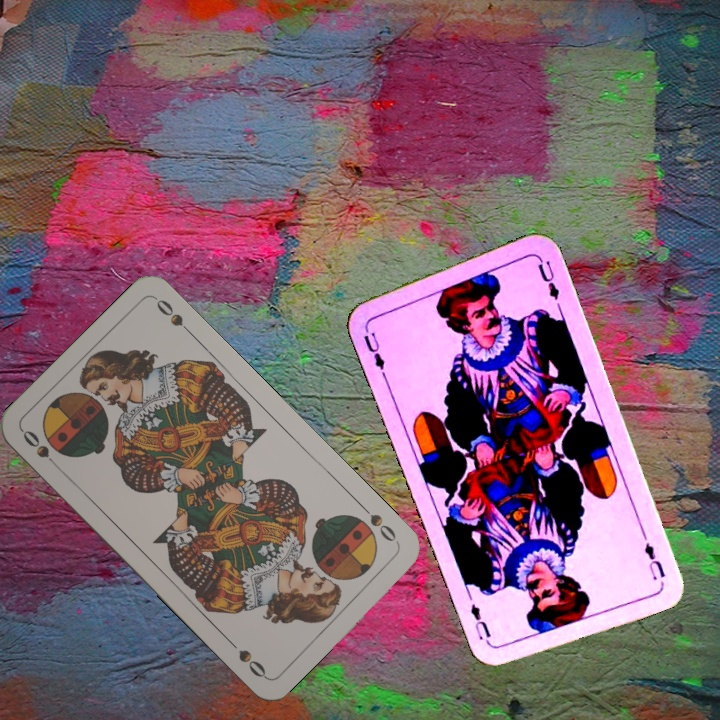EU: (360, 323, 389, 373), (640, 538, 668, 583)
SO: (18, 425, 64, 474), (356, 500, 402, 547)
